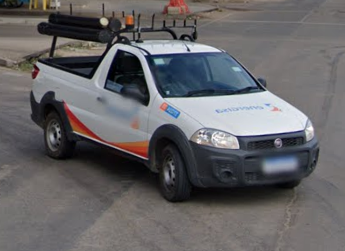car: (28, 2, 323, 203)
